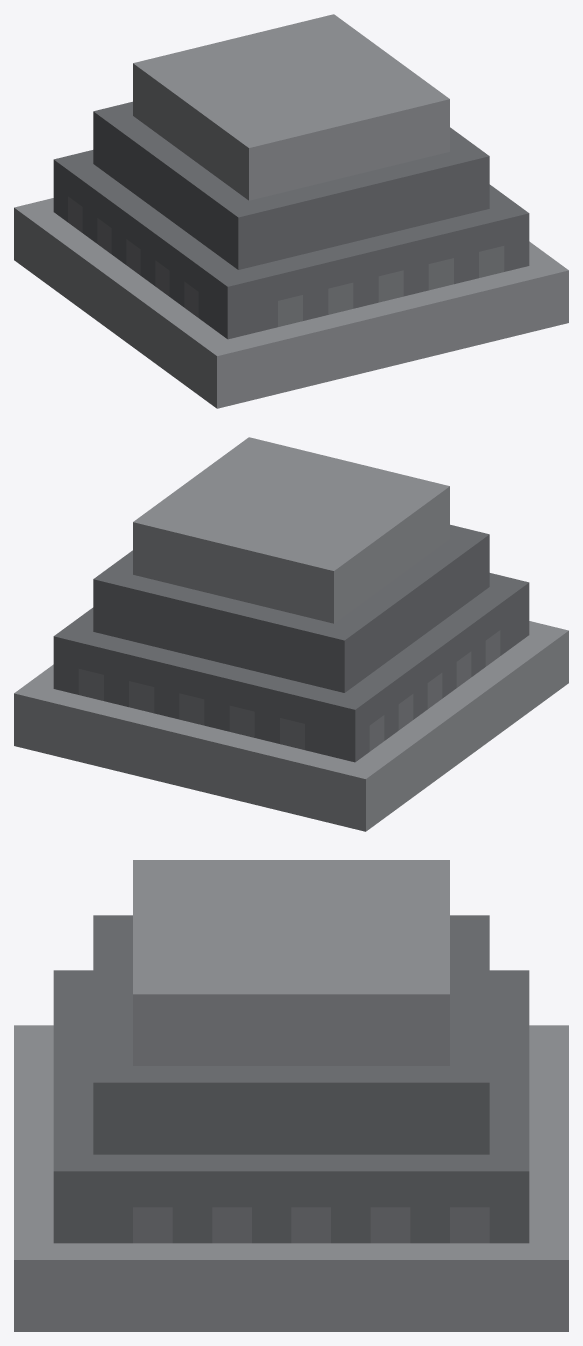
Rendered from Setback_2x2_to_1x1.obj.
3 renders of one model, top to bottom at view 1: azimuth 30°, elevation 25°; view 2: azimuth 150°, elevation 25°; view 3: azimuth 270°, elevation 25°, orthographic. The views are drawn at different scales.
Parts seen in each view (by area): view 1: Setback_2x2_to_1x1; view 2: Setback_2x2_to_1x1; view 3: Setback_2x2_to_1x1.
Boxes of the visible parts, x1,y1,x2,y2 form: Setback_2x2_to_1x1: (14, 14, 568, 408); Setback_2x2_to_1x1: (14, 437, 568, 831); Setback_2x2_to_1x1: (14, 860, 568, 1331).
Size of the model in its own units: 7 by 4 by 7.
1 material, 1 textured.
